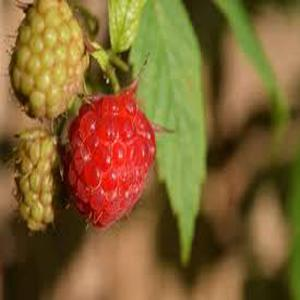raspb: (64, 80, 164, 234)
